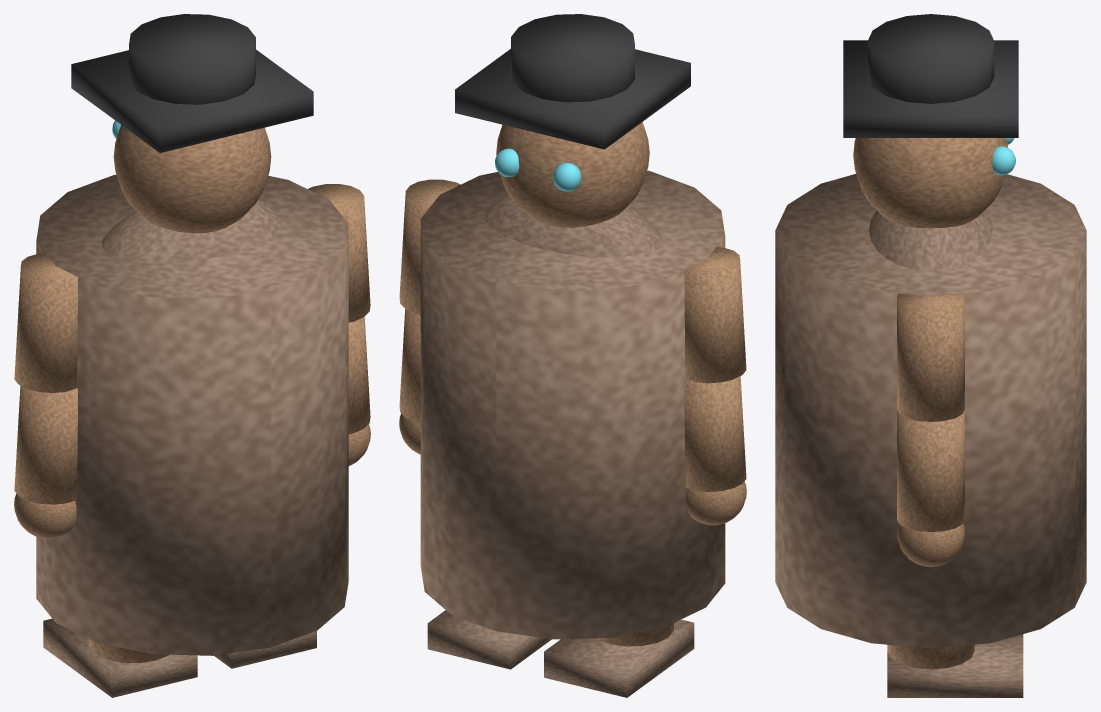
Rendered from witch.glb.
3 views of the same model, side by side, from view 1: azimuth 30°, elevation 25°; view 2: azimuth 150°, elevation 25°; view 3: azimuth 270°, elevation 25° (orthographic). The views are drawn at different scales.
Visible parts, largest first — view 1: Robe, Head, HatBrim, HatTop, UpperArmL, ForearmL, Torso, FootL, UpperArmR, ForearmR, HandL, FootR (+2 smaller); view 2: Robe, HatBrim, Head, HatTop, UpperArmL, ForearmL, FootL, Torso, FootR, UpperArmR, ForearmR, HandL (+4 smaller); view 3: Robe, Head, HatBrim, HatTop, UpperArmR, ForearmR, FootR, Torso, HandR, ShinR, Eye.001.
Part boxes in pixels (x1,y1,x2,y2): Robe: (36, 174, 348, 655); Head: (113, 125, 271, 233); HatBrim: (71, 49, 313, 152); HatTop: (129, 14, 255, 104); UpperArmL: (14, 253, 77, 392); ForearmL: (14, 385, 77, 504); Torso: (101, 200, 283, 263); FootL: (43, 618, 197, 697); UpperArmR: (308, 184, 370, 322); ForearmR: (348, 317, 370, 434); HandL: (14, 494, 76, 538); FootR: (214, 630, 316, 668); Robe: (420, 170, 725, 639); HatBrim: (455, 49, 690, 149); Head: (496, 122, 649, 227); HatTop: (511, 14, 634, 102); UpperArmL: (684, 247, 746, 383); ForearmL: (684, 376, 746, 491); FootL: (544, 619, 694, 697); Torso: (484, 195, 661, 257); FootR: (427, 610, 551, 669); UpperArmR: (399, 179, 460, 314); ForearmR: (399, 309, 420, 423); HandL: (685, 481, 746, 525); Robe: (775, 174, 1086, 648); Head: (853, 138, 1007, 228); HatBrim: (843, 40, 1018, 137); HatTop: (867, 14, 994, 103); UpperArmR: (897, 293, 964, 421); ForearmR: (897, 410, 964, 531); FootR: (887, 634, 1023, 697); Torso: (869, 210, 992, 271); HandR: (897, 523, 964, 566); ShinR: (887, 644, 974, 669); Eye.001: (992, 146, 1015, 175).
Bounding box in the file's own units: 0.5906 × 1 × 0.4638.
4 materials, 2 textured.
